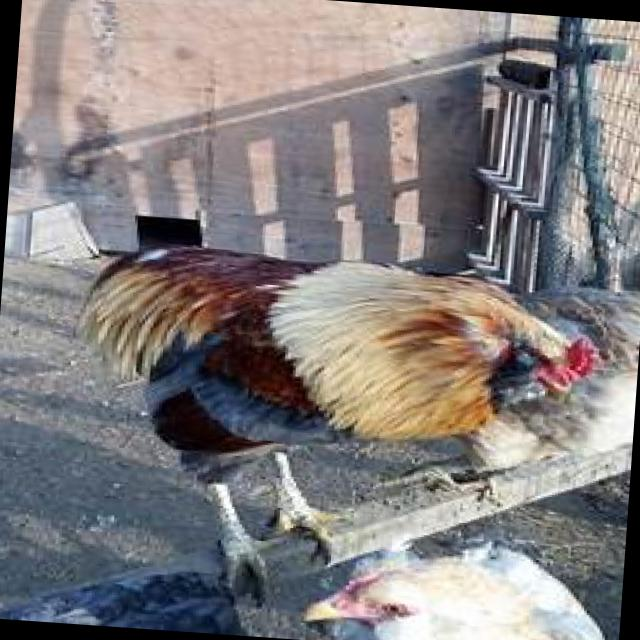chicken: (59, 238, 600, 597), (302, 543, 623, 640)
